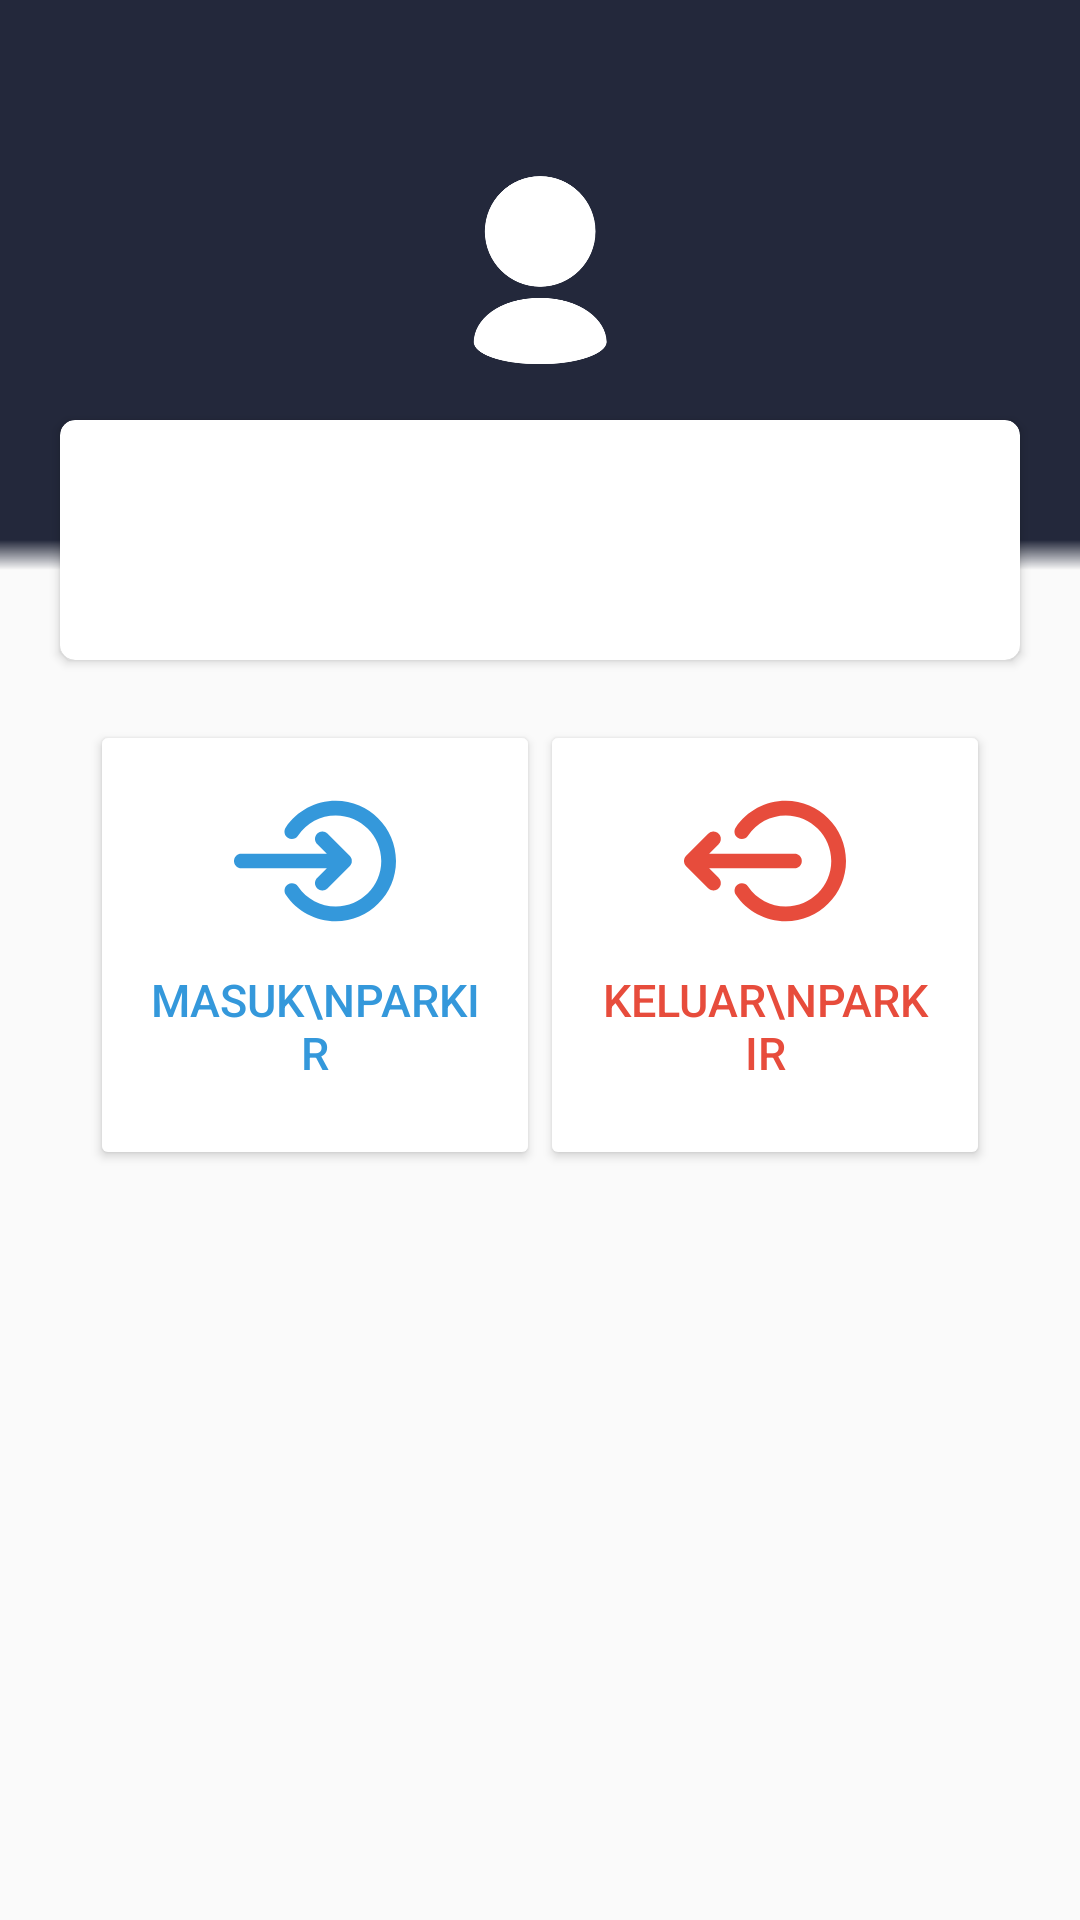

Point at icon controls on the screen. Image size 1080w x 1920h, points as (x,y).
user: (540,270)
